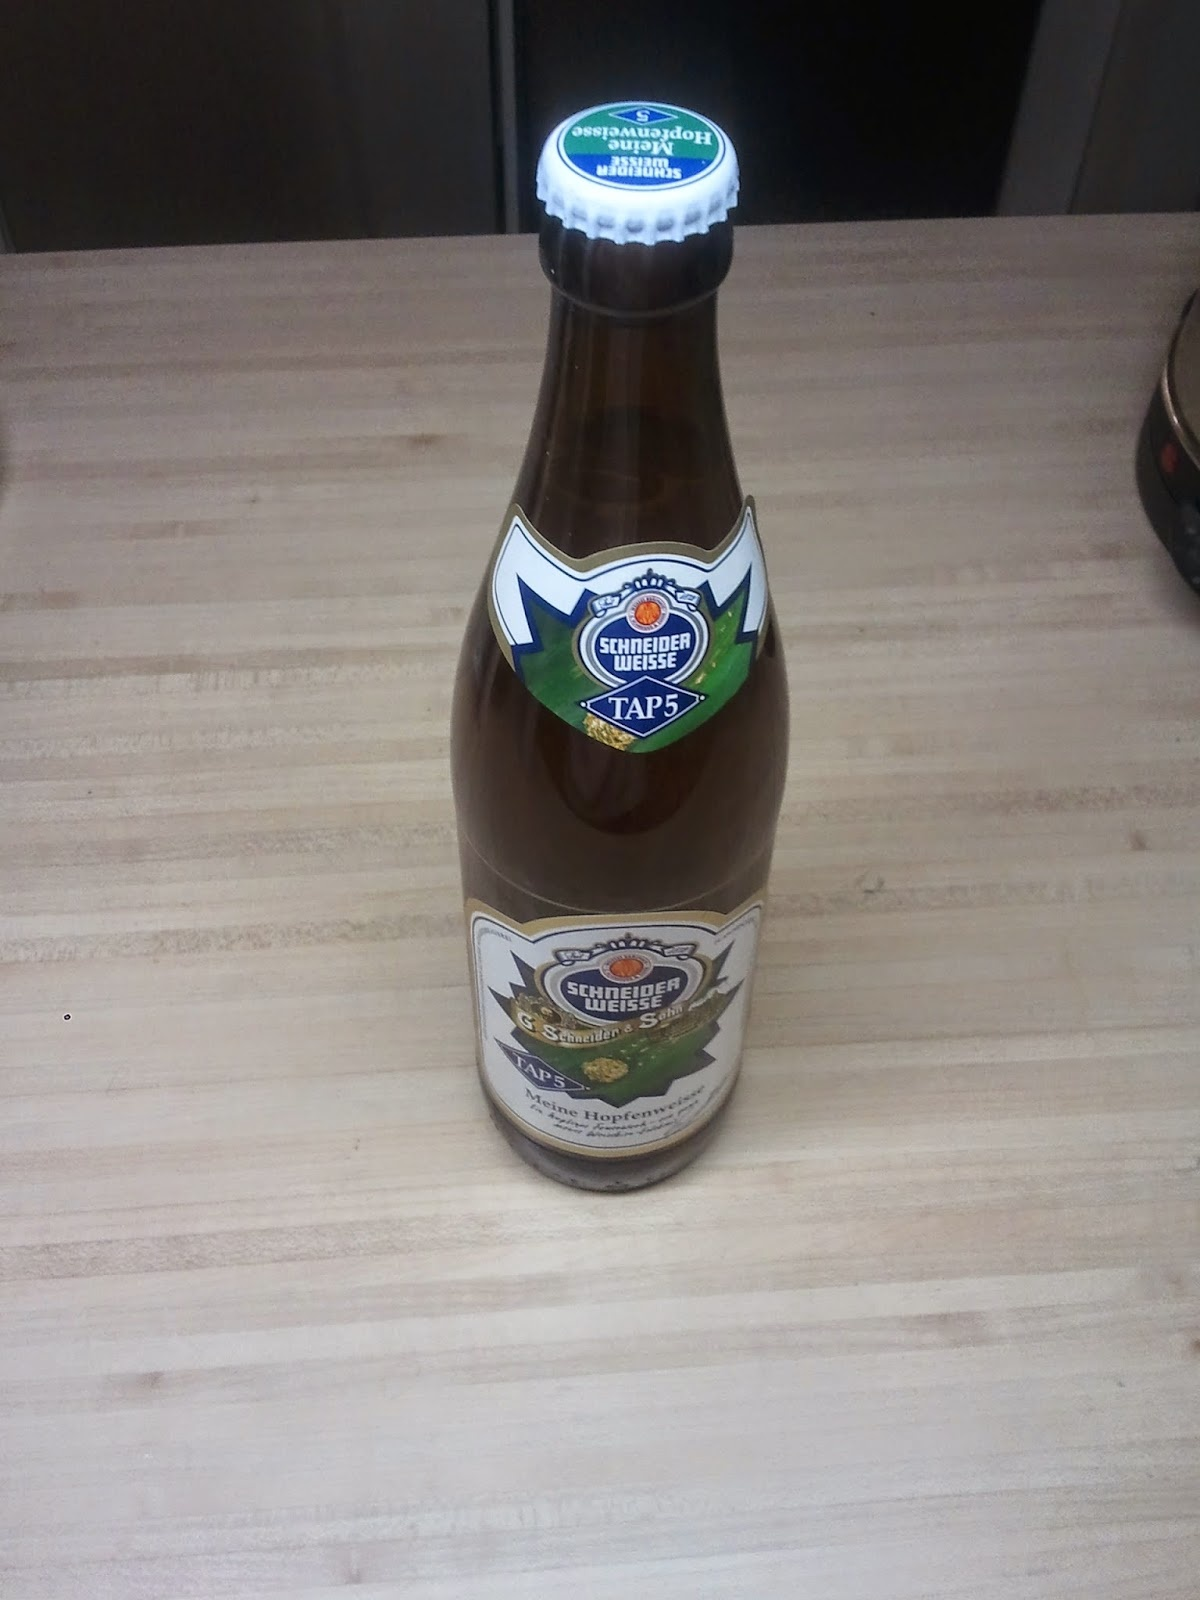beerBottle: (458, 110, 774, 1231)
